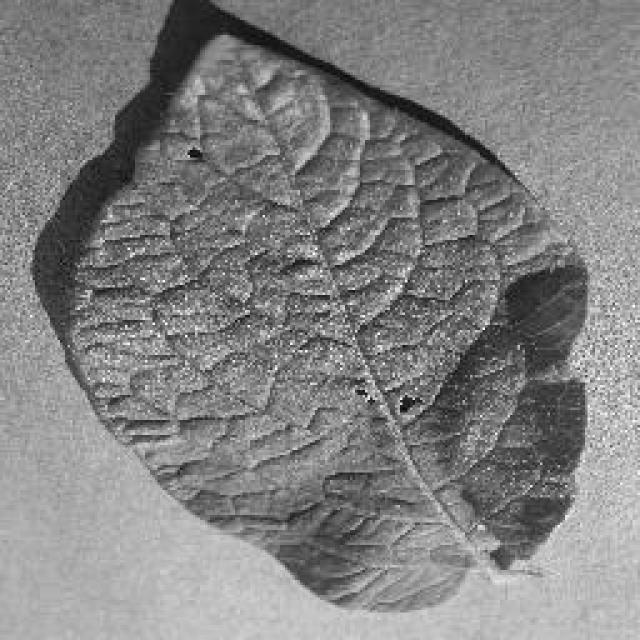Potato: (27, 0, 590, 612)
